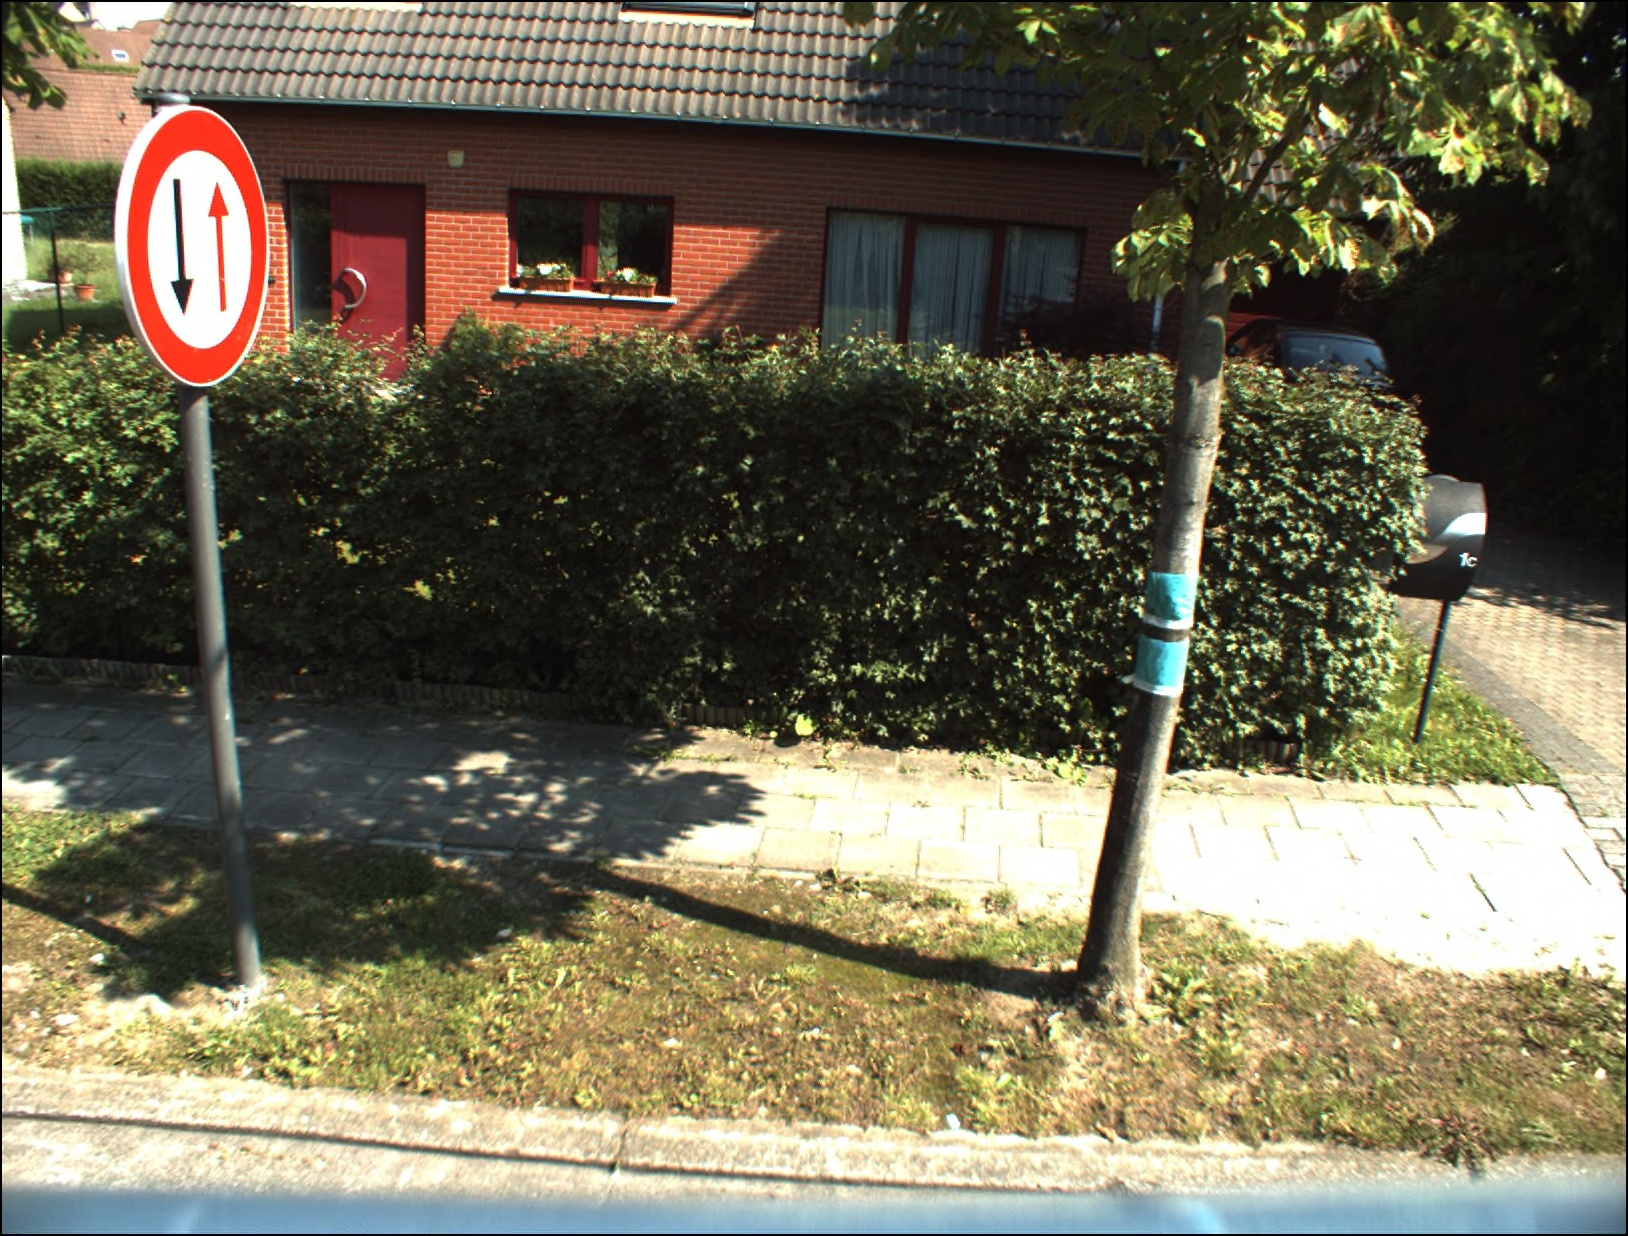roadnarrow2: (119, 104, 271, 383)
